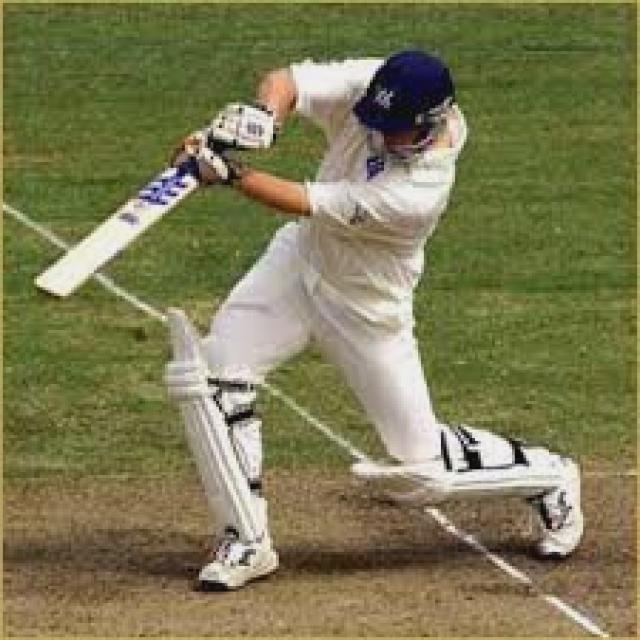bat: (20, 160, 201, 317)
toe: (30, 278, 67, 307)
